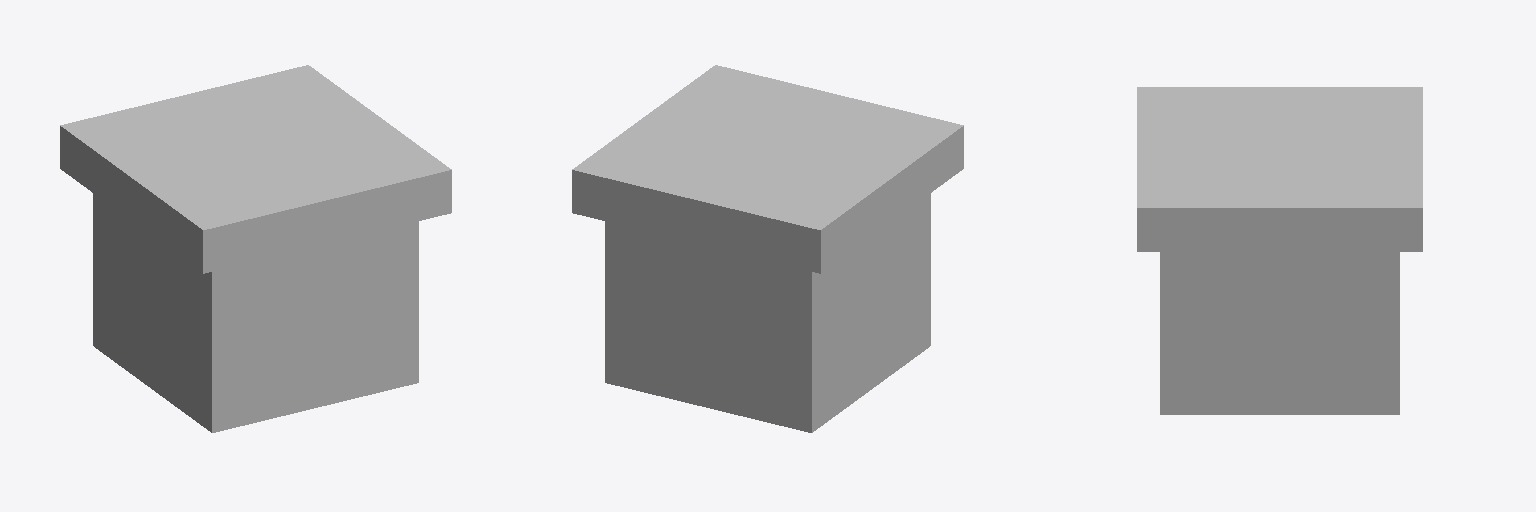
File: cube_concrete_border.obj
The picture shows the model from 3 angles: view 1: azimuth 30°, elevation 25°; view 2: azimuth 150°, elevation 25°; view 3: azimuth 270°, elevation 25°; orthographic projection.
Bounding box in the file's own units: 12 × 10 × 12.